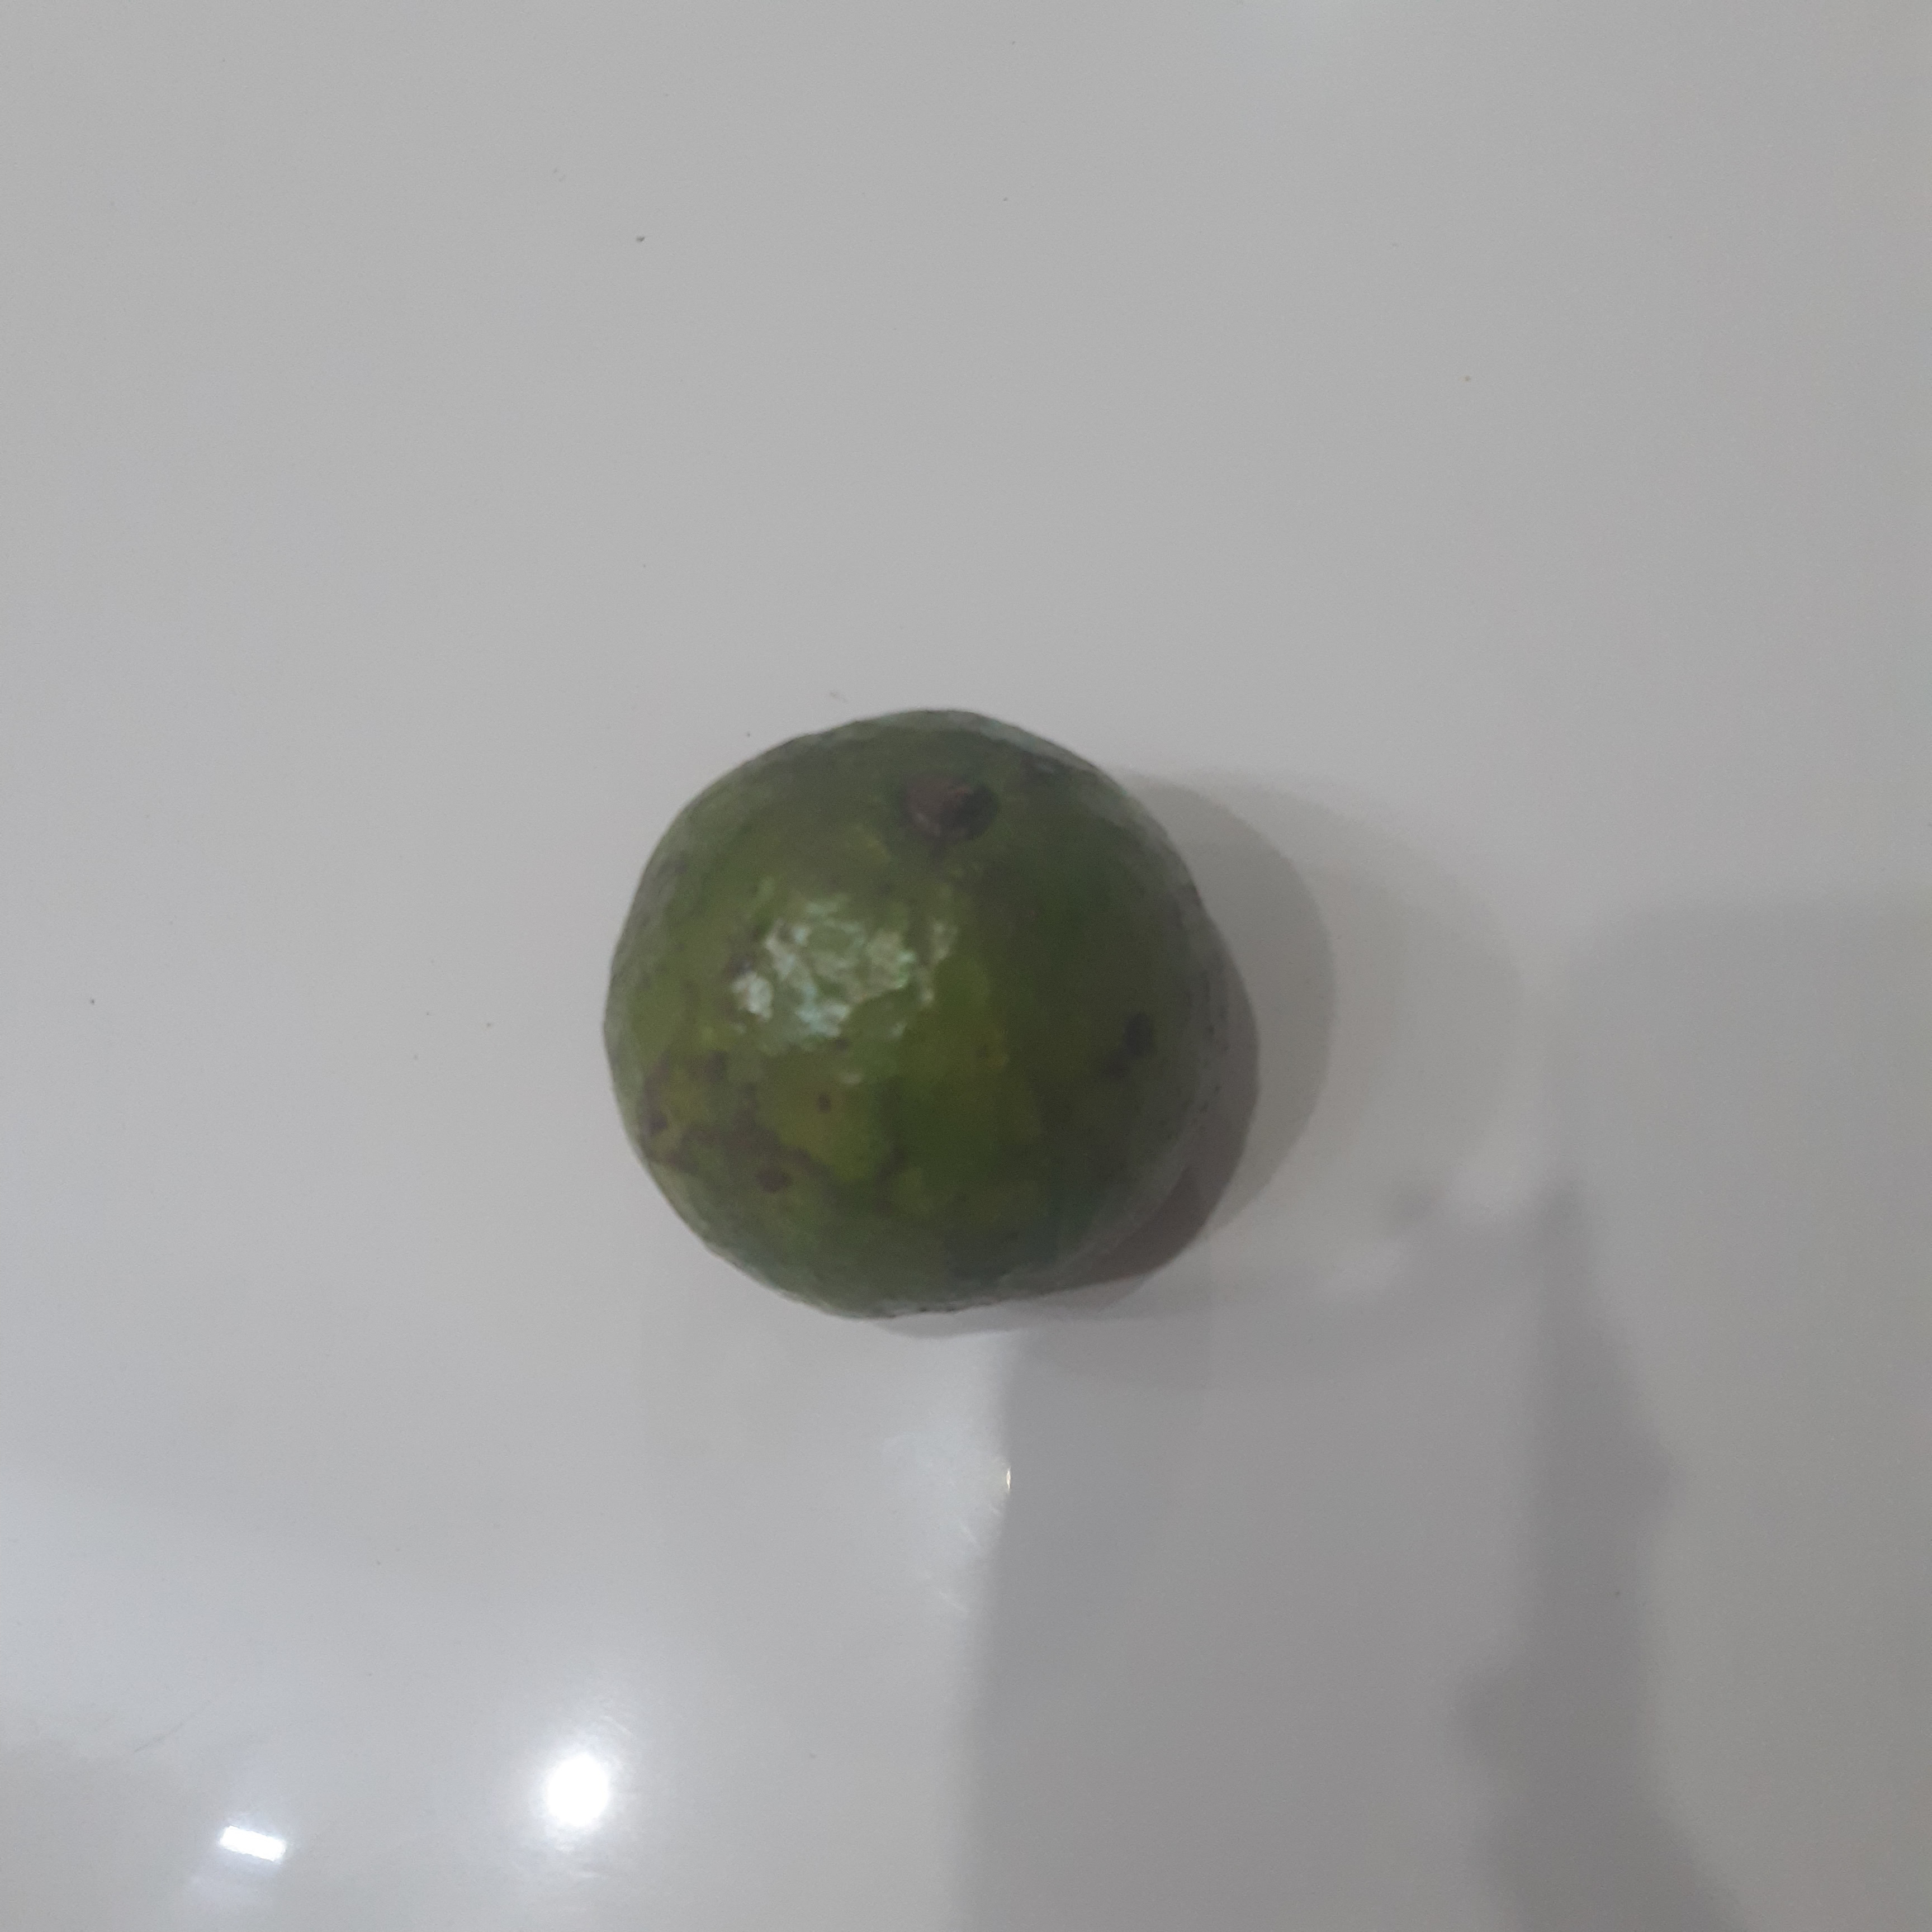Bo: (602, 708, 1224, 1330)
